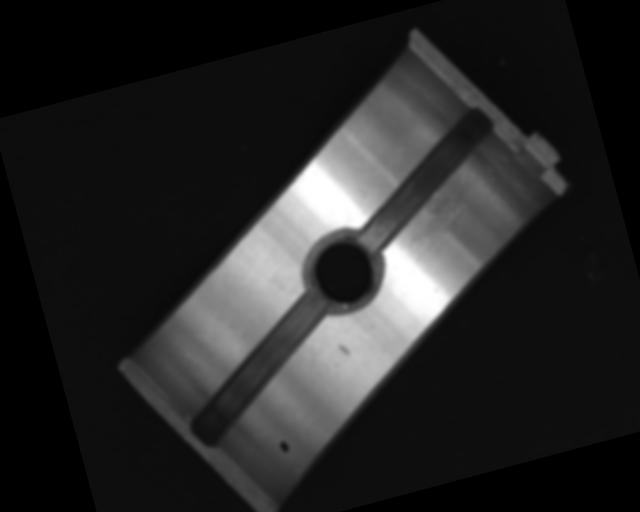blot: (278, 437, 290, 454)
bruise: (337, 341, 351, 357)
gap: (171, 289, 348, 446), (335, 102, 512, 253)
hole: (296, 223, 390, 320)
scratch: (389, 167, 491, 253)
